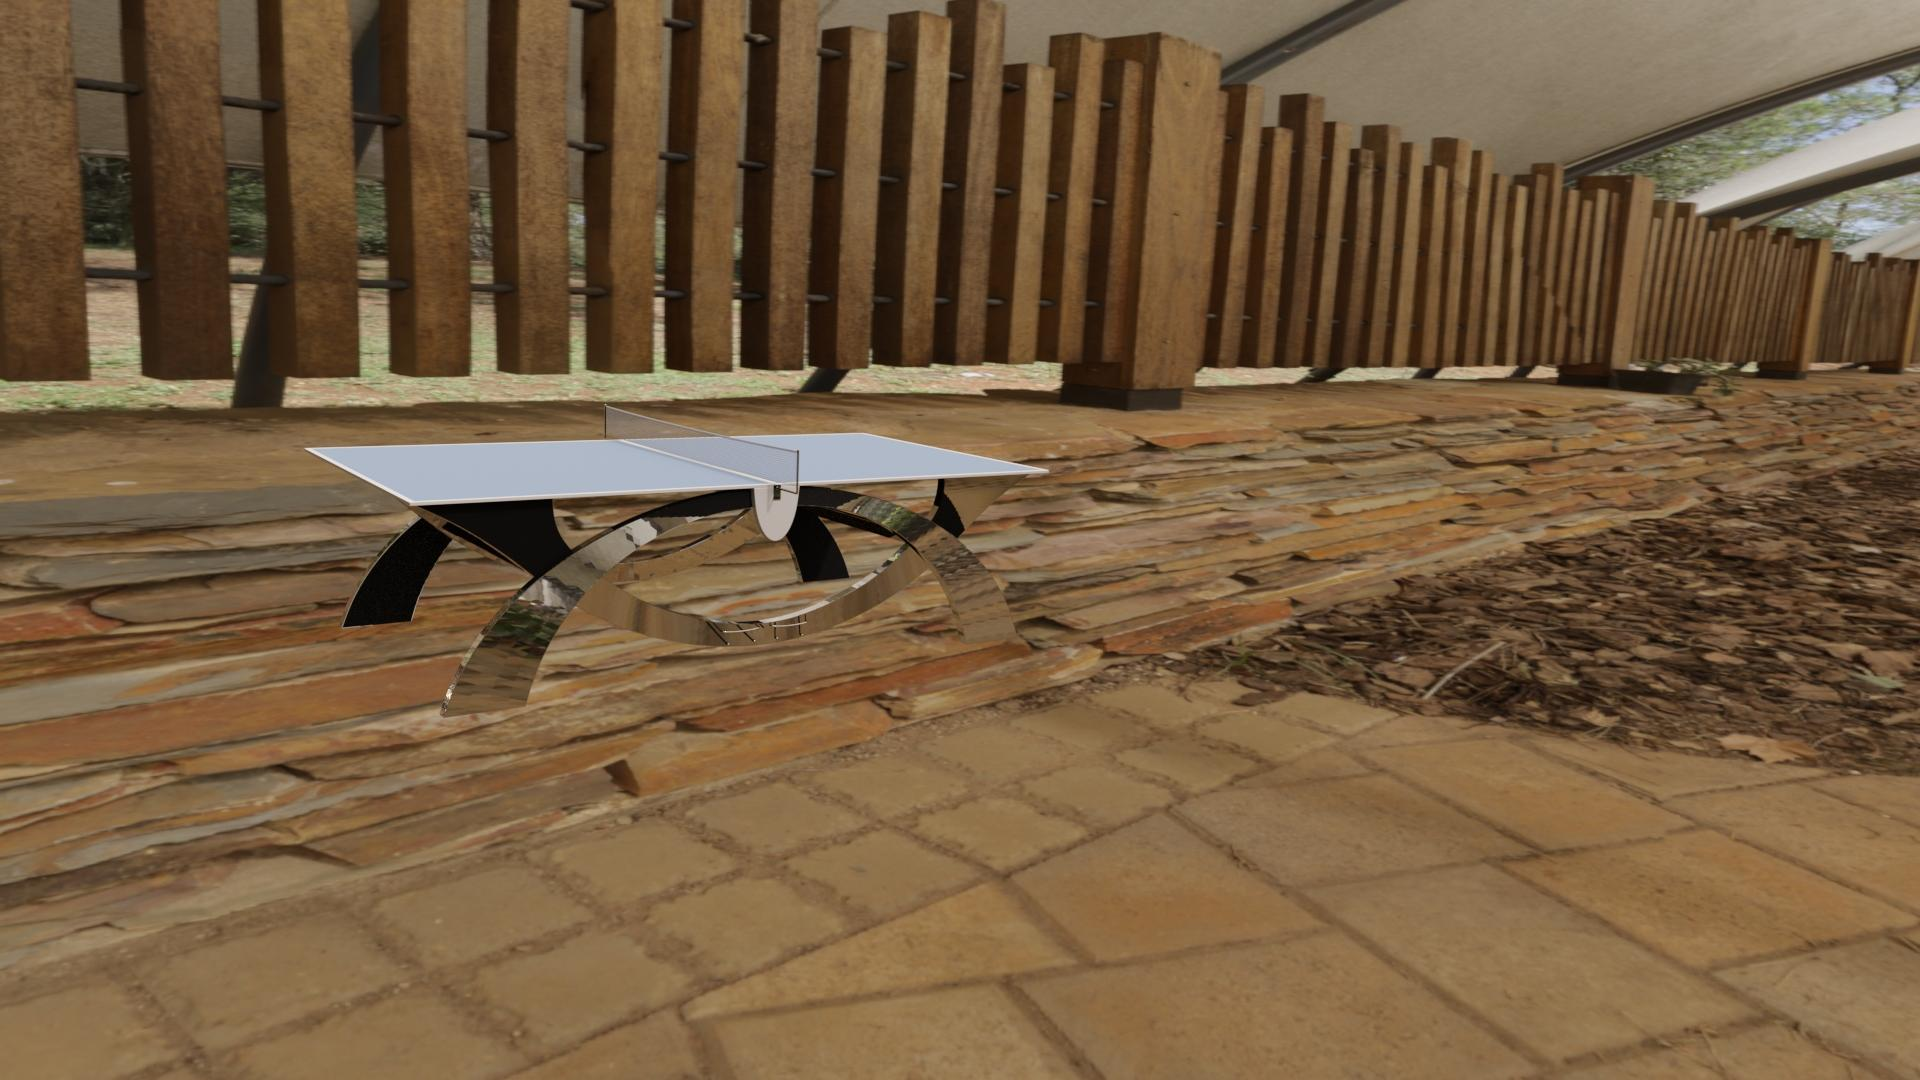table: (311, 434, 1043, 501)
